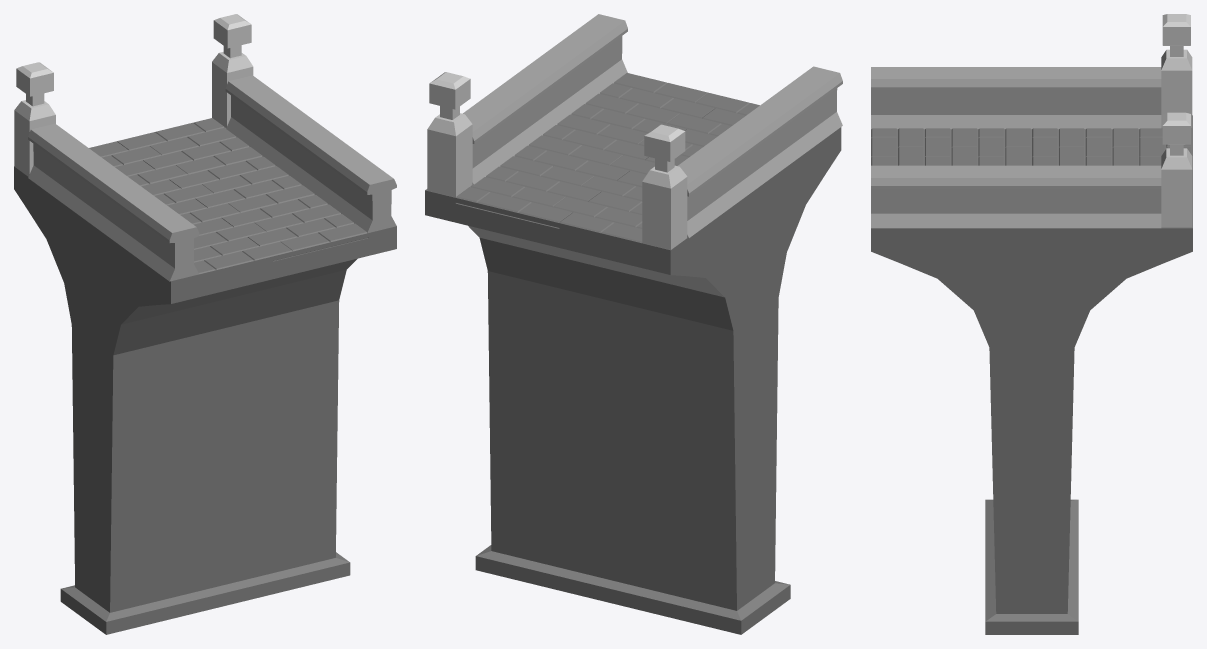
Rendered from Bridge 0.fbx.
3 renders of one model, left to right at view 1: azimuth 30°, elevation 25°; view 2: azimuth 150°, elevation 25°; view 3: azimuth 270°, elevation 25°, orthographic. The views are drawn at different scales.
Visible parts, largest first — view 1: Cube.008; view 2: Cube.008; view 3: Cube.008.
Part boxes in pixels (x1,y1,x2,y2): Cube.008: (14, 14, 396, 634); Cube.008: (425, 14, 842, 634); Cube.008: (871, 14, 1192, 634).
Bounding box in the file's own units: 813 × 1572 × 906.
